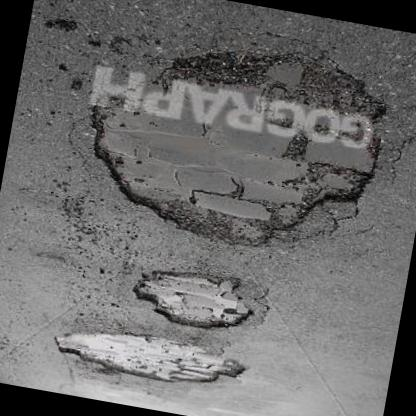pothole: (69, 20, 404, 276), (50, 326, 252, 397), (125, 262, 261, 340)
